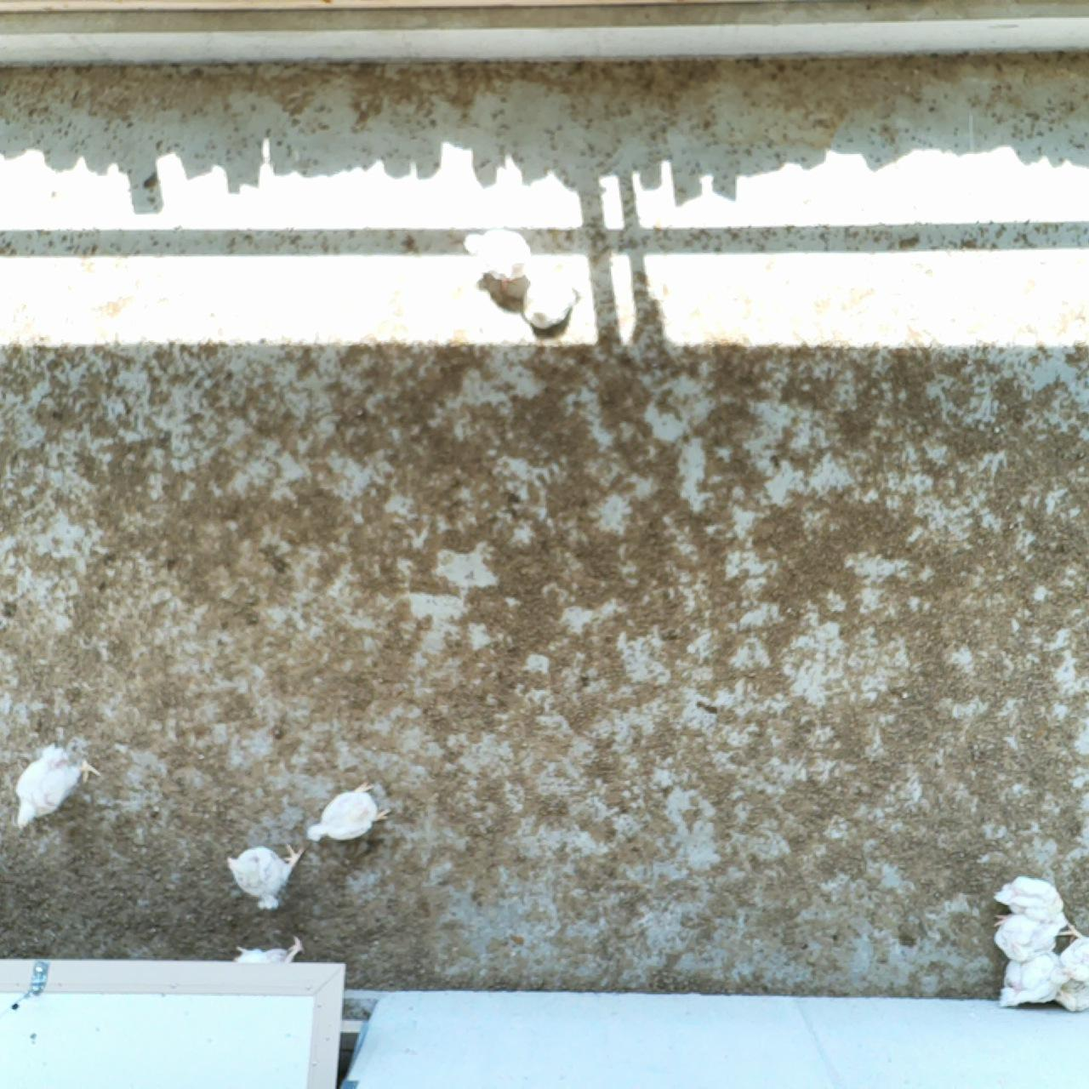chicken: (13, 739, 102, 830), (307, 782, 397, 845), (227, 840, 301, 910), (999, 948, 1078, 1007), (464, 227, 533, 292), (994, 872, 1072, 929), (520, 264, 580, 331), (992, 908, 1059, 960), (235, 936, 306, 967), (1055, 917, 1089, 977), (1050, 972, 1089, 1015)
